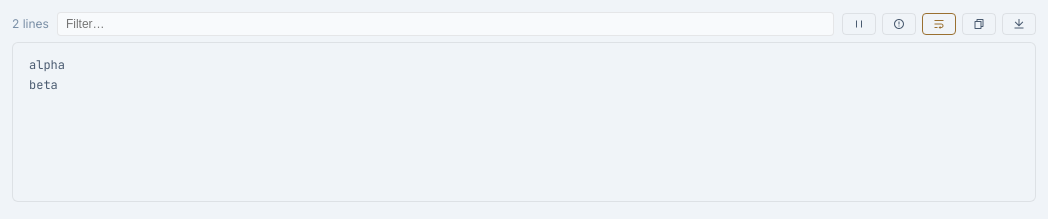
Test case: StreamLog › copies ALL lines, even those hidden by a filter, and confirms
Type "alpha" into the field with placeholder "Filter…". click: (445, 24)
box: [57, 12, 834, 36]
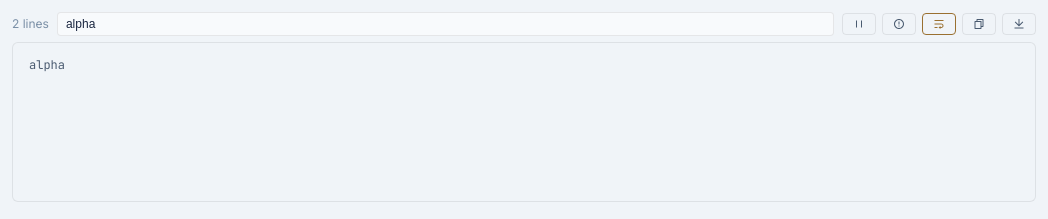
Click the button named "Copy all". click: (979, 24)
box: [962, 13, 996, 35]
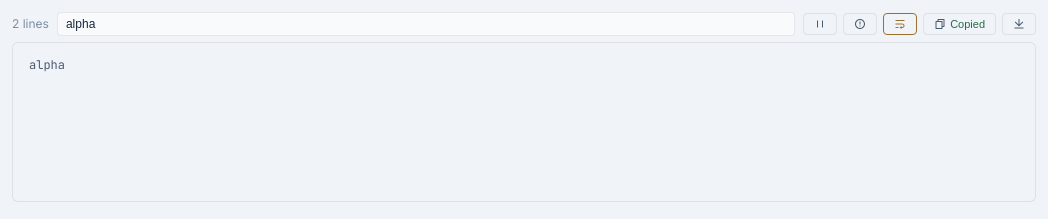
Expected: the text "Copied" is shown, [950, 18, 985, 30]
